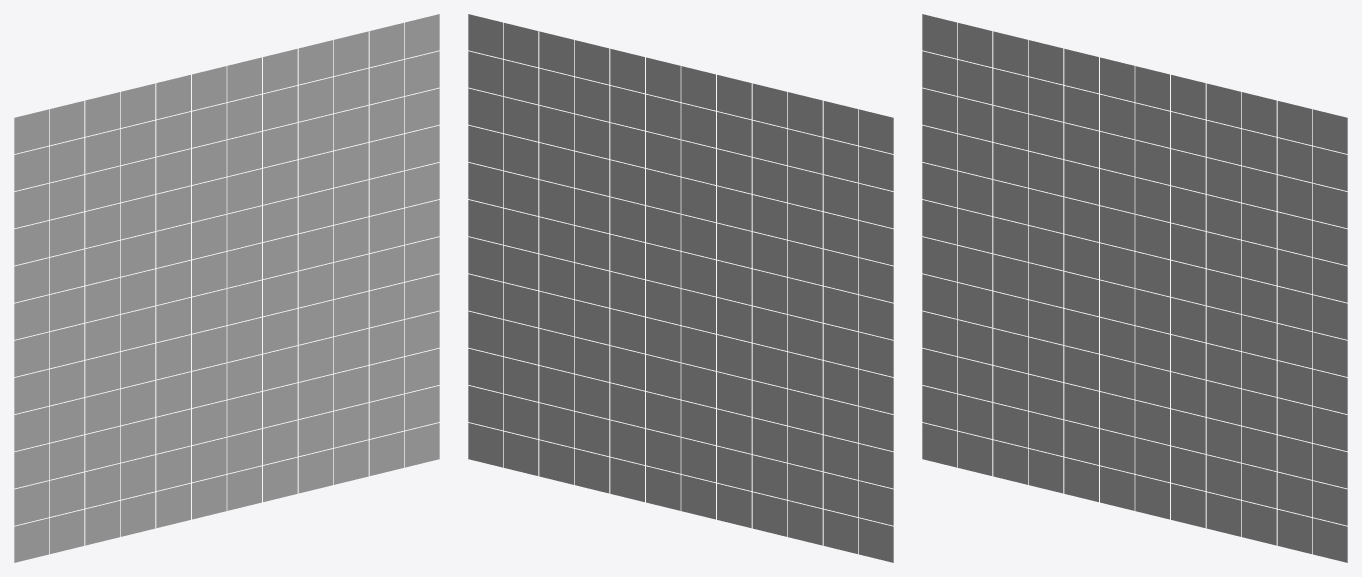
The model's file is 78mosaic.gltf.
3 views of the same model, side by side, from view 1: azimuth 30°, elevation 25°; view 2: azimuth 150°, elevation 25°; view 3: azimuth 330°, elevation 25° (orthographic).
Visible parts, largest first — view 1: 78ma; view 2: 78ma; view 3: 78ma.
Part boxes in pixels (x1,y1,x2,y2): 78ma: (14,14,439,562); 78ma: (468,14,893,562); 78ma: (922,14,1347,562).
Size of the model in its own units: 0.2727 by 0.2725 by 0.
144 materials, 144 textured.
